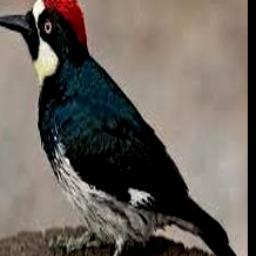Woodpecker: (0, 0, 244, 256)
